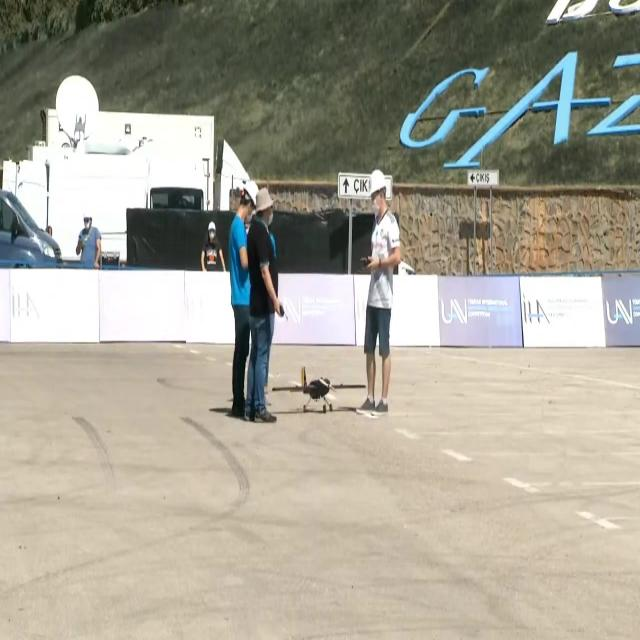iha: (304, 363, 334, 416)
